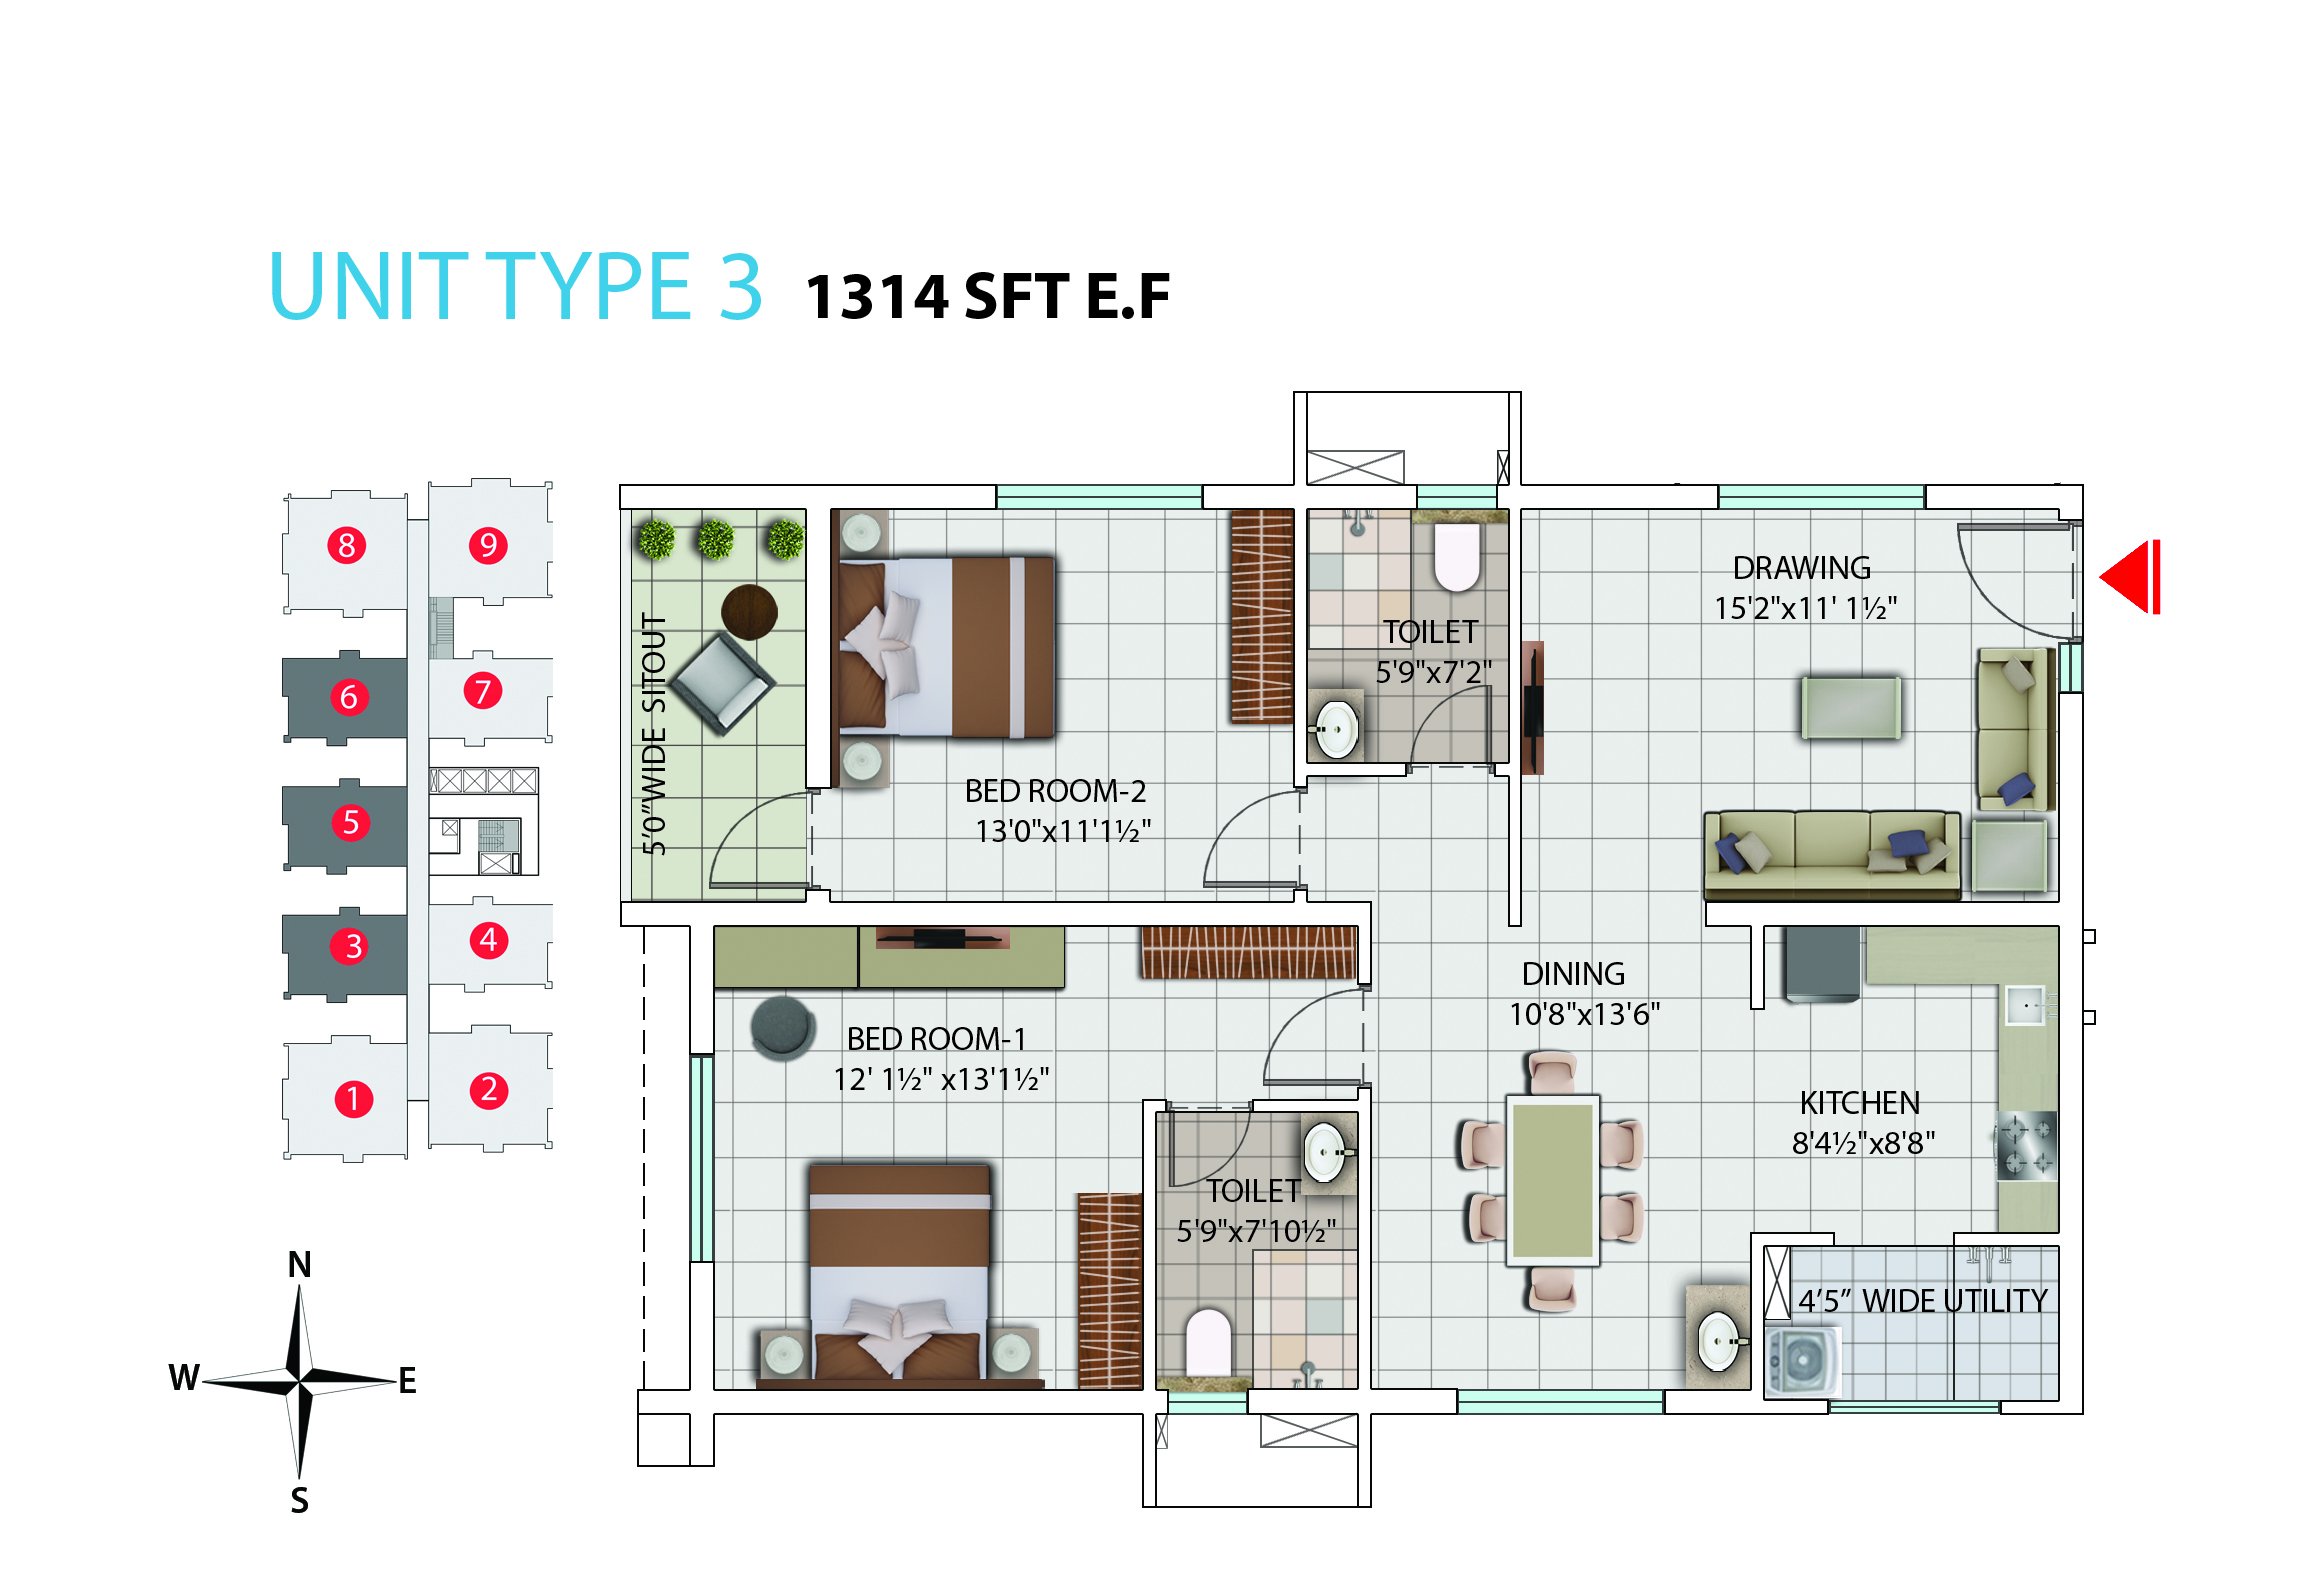window: (1715, 482, 1929, 514), (993, 484, 1208, 514), (687, 1052, 717, 1263), (1456, 1389, 1669, 1415), (1826, 1396, 2005, 1415), (1412, 482, 1500, 512), (1166, 1387, 1250, 1417)
